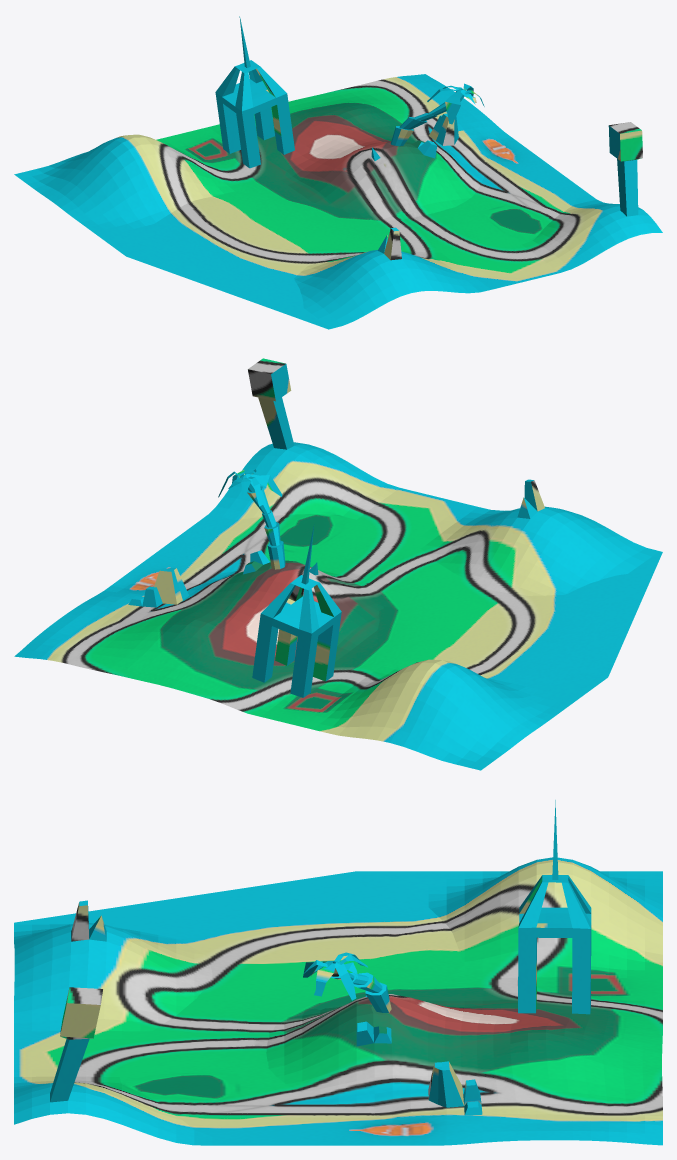
The model's file is mapa.obj.
3 renders of one model, top to bottom at view 1: azimuth 30°, elevation 25°; view 2: azimuth 150°, elevation 25°; view 3: azimuth 270°, elevation 25°, orthographic. The views are drawn at different scales.
Visible parts, largest first — view 1: Grid; view 2: Grid; view 3: Grid.
Part boxes in pixels (box(x1,y1,x2,y2)): Grid: box(14, 16, 662, 329); Grid: box(14, 358, 662, 770); Grid: box(14, 800, 662, 1145).
Bounding box in the file's own units: 127 × 42.25 × 127.
